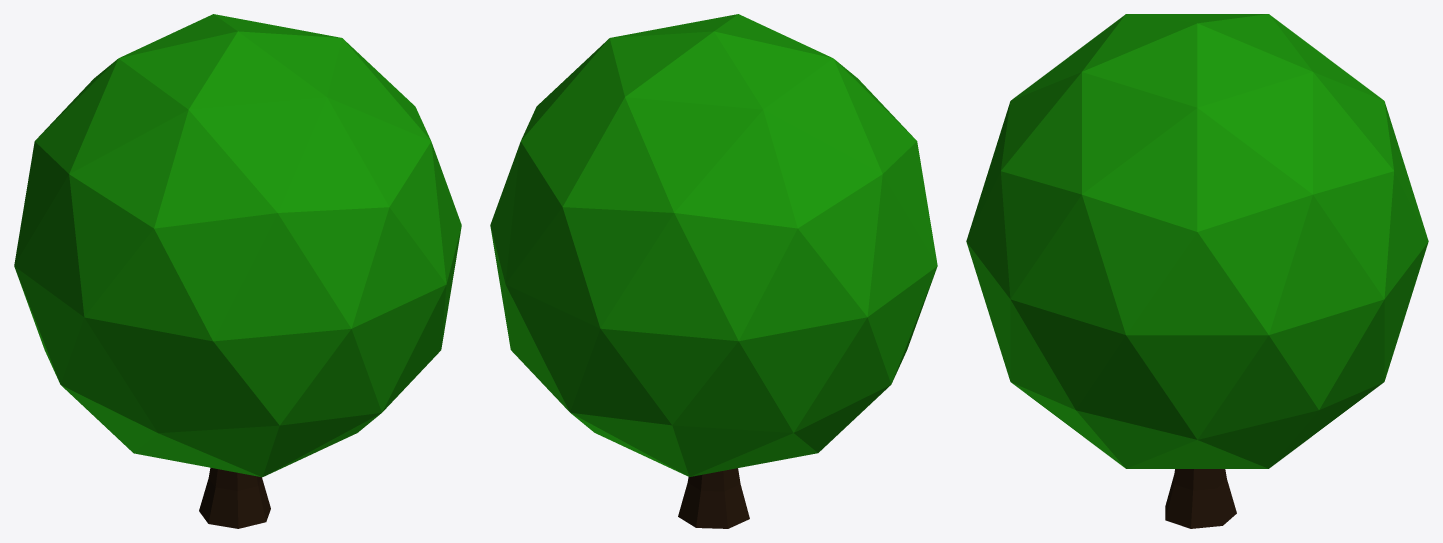
Rendered from lil_bush.obj.
3 renders of one model, left to right at view 1: azimuth 30°, elevation 25°; view 2: azimuth 150°, elevation 25°; view 3: azimuth 270°, elevation 25°, orthographic.
Parts seen in each view (by area): view 1: Icosphere.014, Cylinder.004; view 2: Icosphere.014, Cylinder.004; view 3: Icosphere.014, Cylinder.004.
Boxes of the visible parts, box(x1,y1,x2,y2) form: Icosphere.014: box(14, 14, 461, 477); Cylinder.004: box(199, 467, 270, 528); Icosphere.014: box(490, 14, 937, 476); Cylinder.004: box(678, 468, 749, 528); Icosphere.014: box(966, 14, 1428, 468); Cylinder.004: box(1165, 469, 1236, 528).
Size of the model in its own units: 1.15 by 1.4 by 1.19.
